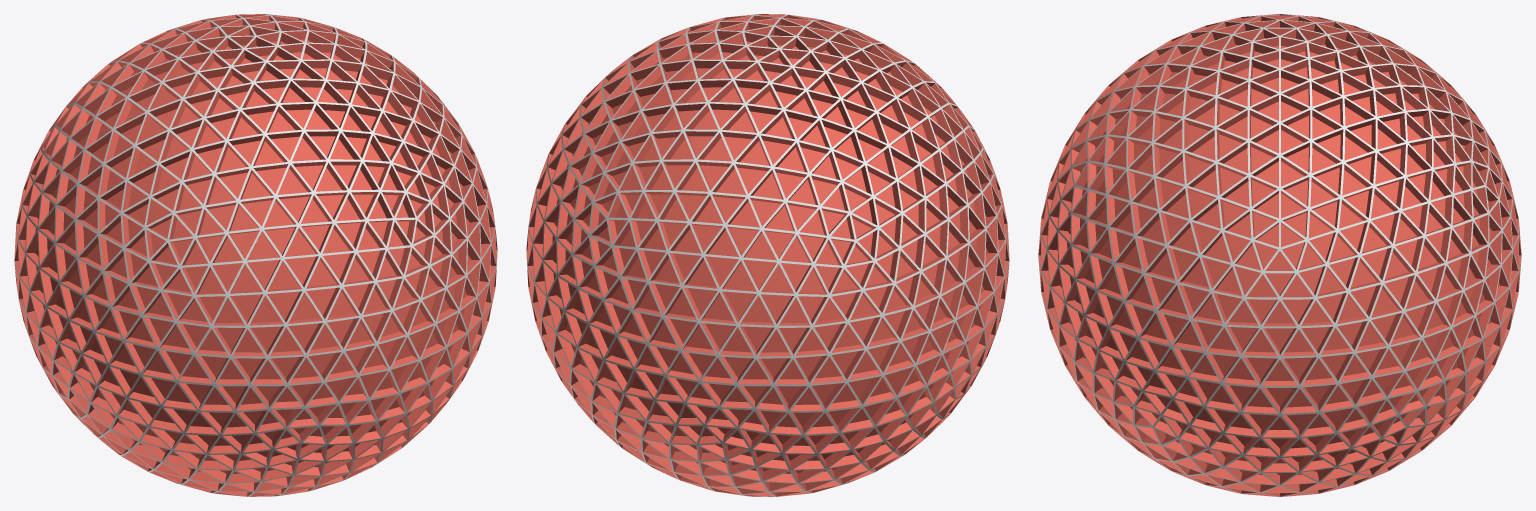
Rendered from ball01.fbx.
3 renders of one model, left to right at view 1: azimuth 30°, elevation 25°; view 2: azimuth 150°, elevation 25°; view 3: azimuth 270°, elevation 25°, orthographic.
Visible parts, largest first — view 1: ball01; view 2: ball01; view 3: ball01.
Boxes of the visible parts, <box> form: ball01: <box>14,14,497,496</box>; ball01: <box>526,14,1009,496</box>; ball01: <box>1038,14,1521,496</box>.
Bounding box in the file's own units: 59.9 × 59.91 × 59.9.
